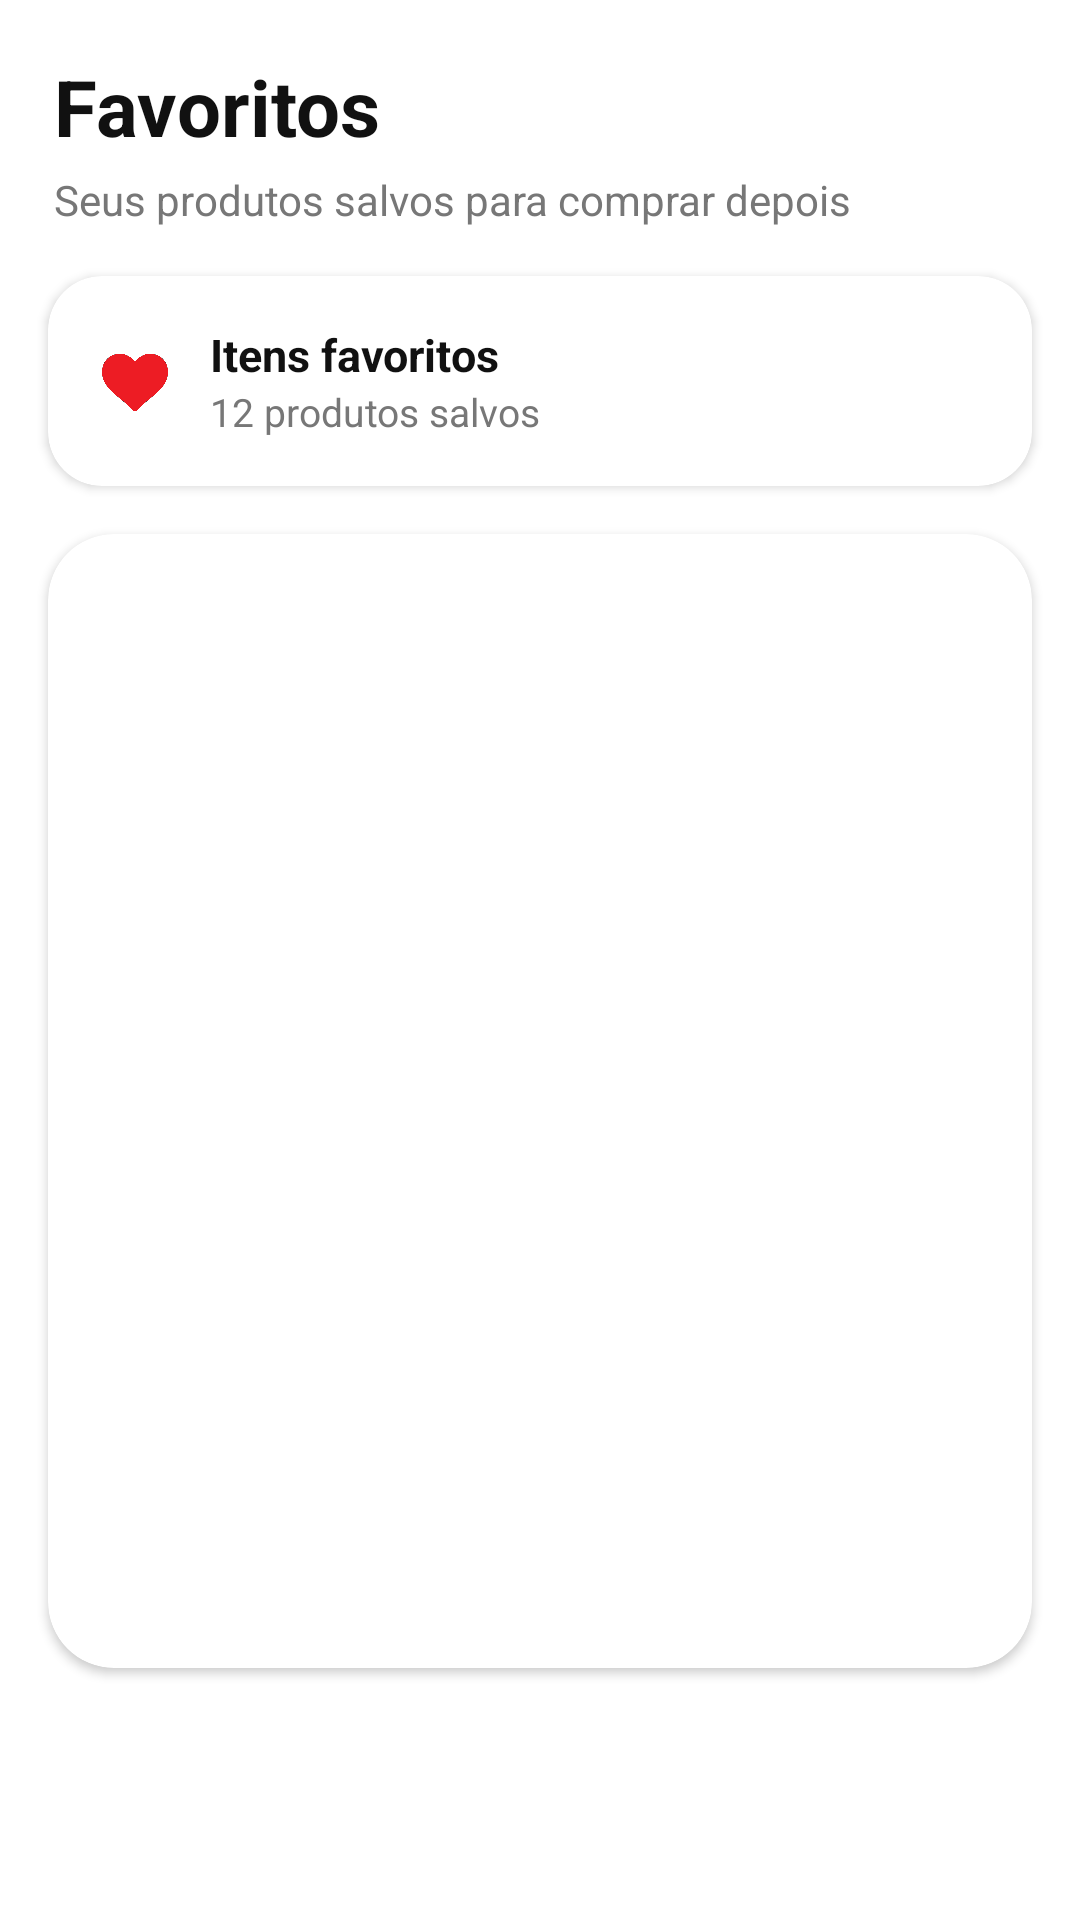

Icons on this 1080 x 1920 Android screen, each with the point to tap as point (x, y):
favorite true: point (135, 382)
